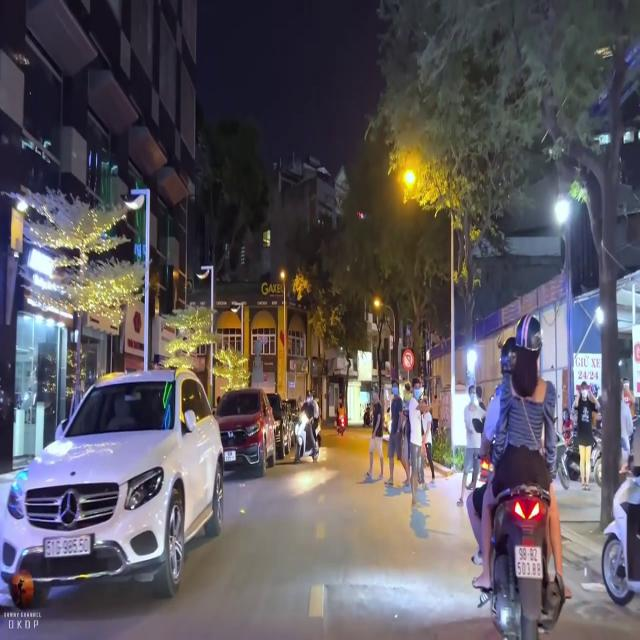bien_trang: (514, 541, 544, 576), (44, 536, 90, 556)
